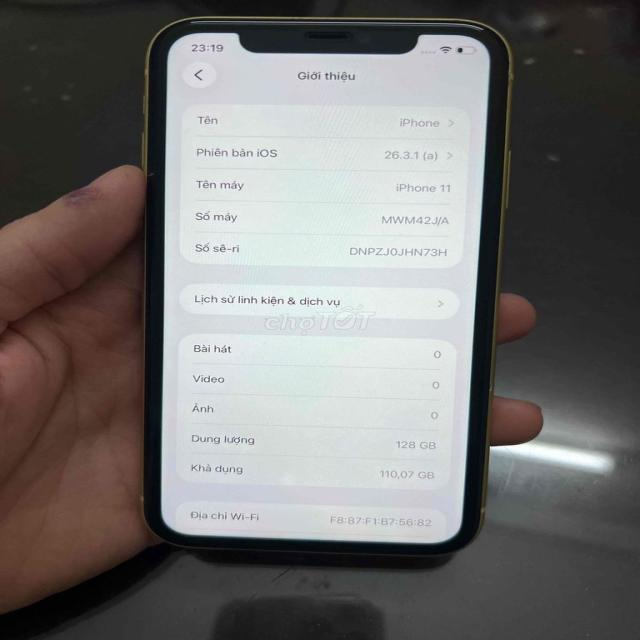gen_11: (136, 13, 502, 554)
